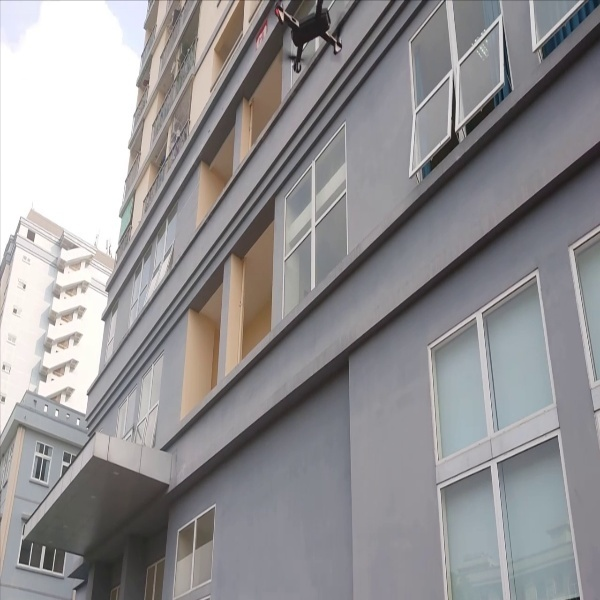drone: (268, 1, 355, 77)
